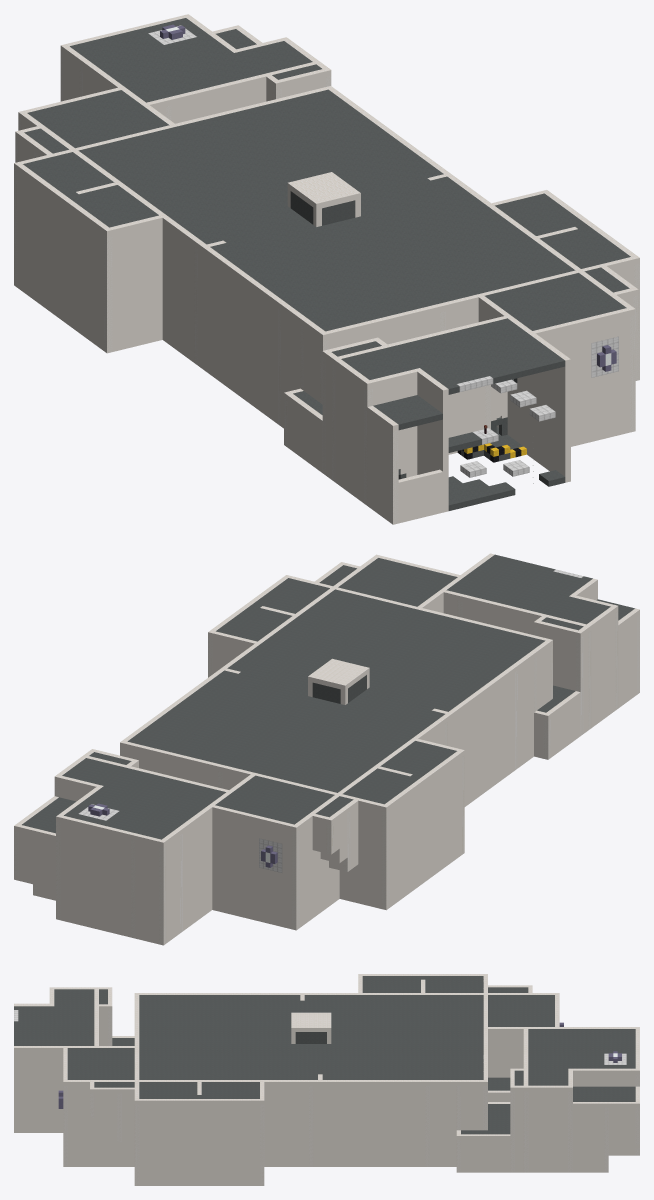
File: minecraft.obj
3 views of the same model, one above another, from view 1: azimuth 30°, elevation 25°; view 2: azimuth 150°, elevation 25°; view 3: azimuth 270°, elevation 25° (orthographic). The views are drawn at different scales.
Bounding box in the file's own units: 670 × 250 × 1400.
